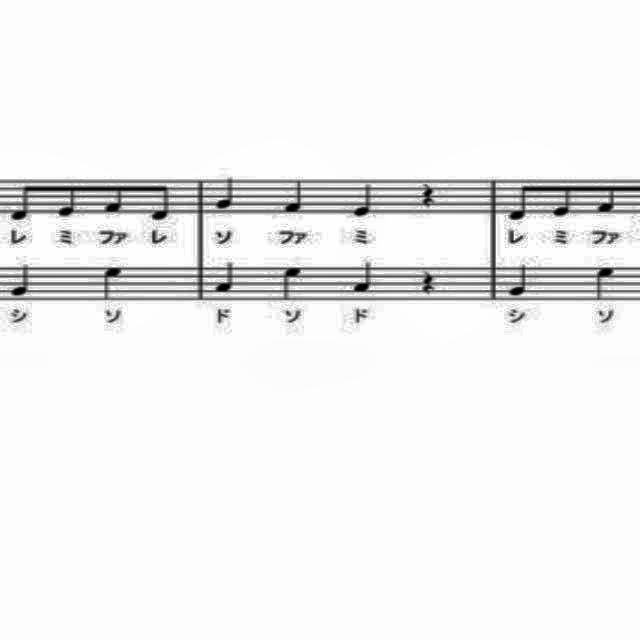Eighth-note: (502, 175, 540, 227), (8, 176, 36, 228), (147, 178, 175, 224), (97, 176, 125, 220), (548, 180, 576, 220), (594, 178, 620, 220), (54, 179, 78, 221)
Quarter-note: (276, 261, 308, 305), (94, 260, 125, 302), (588, 260, 618, 302), (282, 174, 310, 218), (209, 258, 239, 298), (350, 256, 378, 298), (506, 260, 534, 300), (210, 174, 238, 213), (8, 261, 34, 301), (352, 182, 376, 222)
Quarter-rest: (415, 178, 441, 210), (417, 262, 438, 298)
